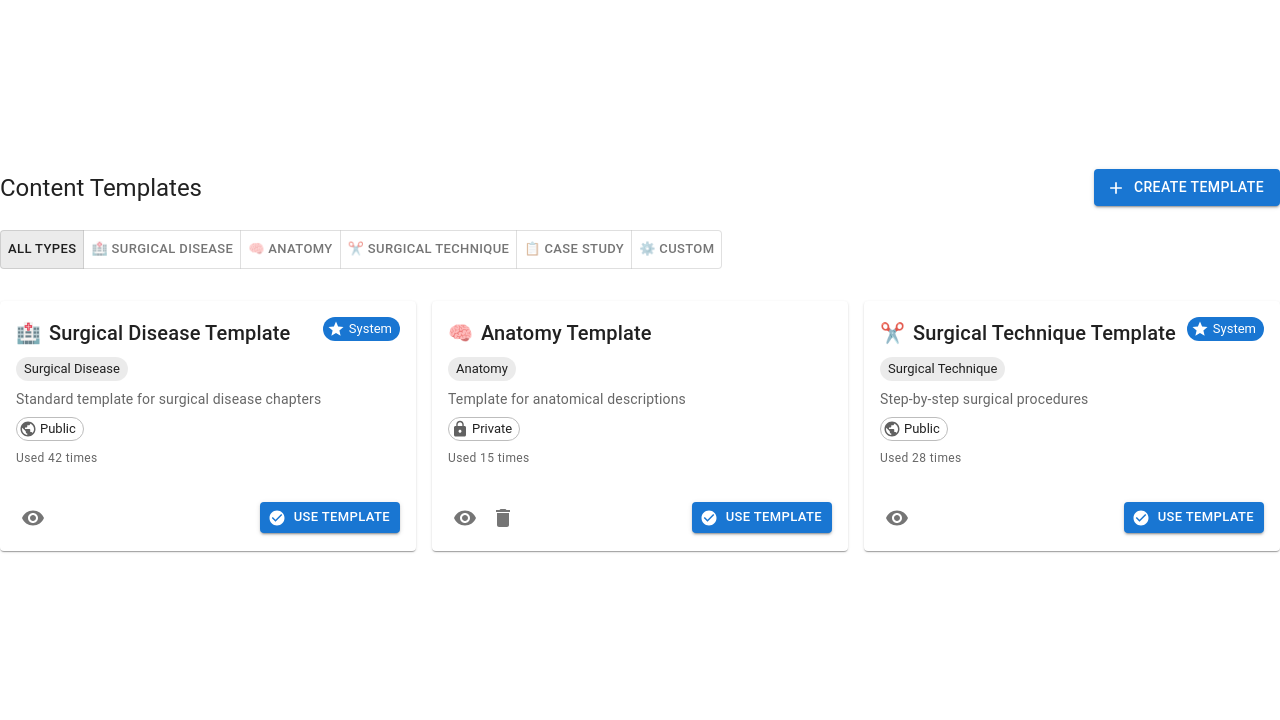
Test: TemplateSelector Component › Create Template Dialog › should allow adding sections
This screenshot has width=1280, height=720.
expect the heading "Content Templates" is shown: met, box [0, 172, 202, 204]
Click the button "Create Template" at (1187, 188), box [1094, 169, 1279, 206]
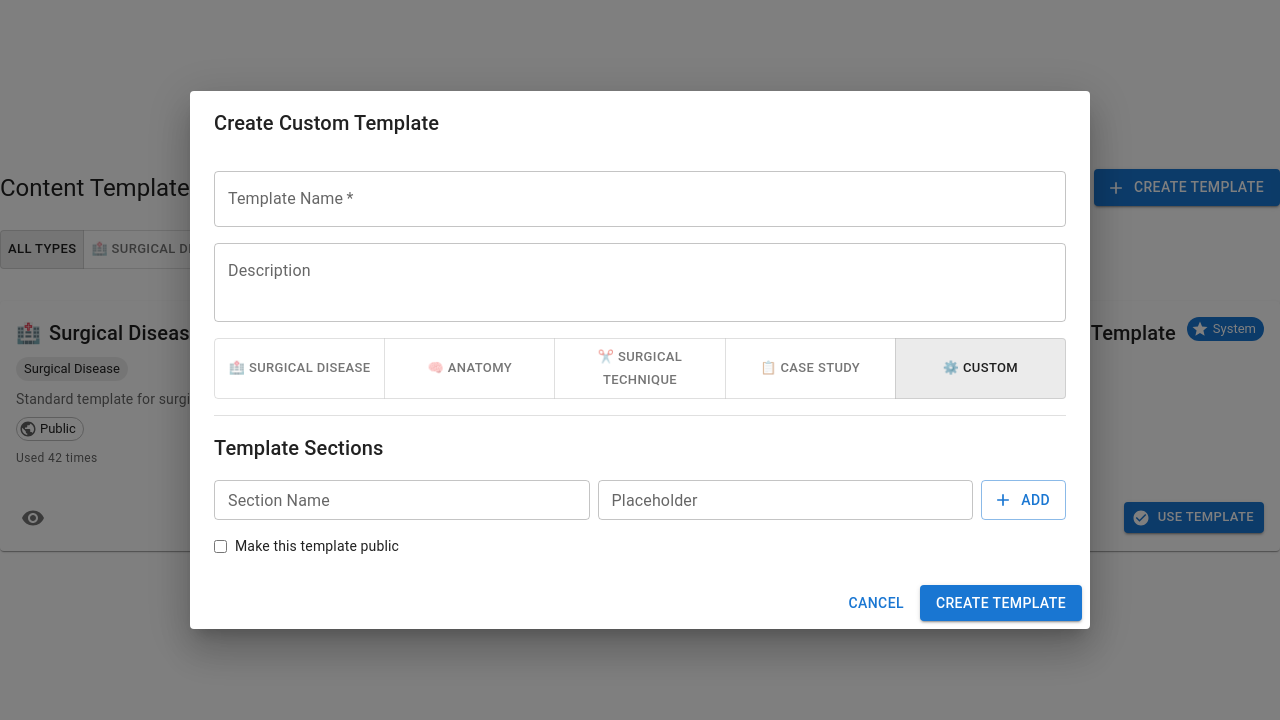
expect the field labelled "Section Name" is shown: met
Type section name
Type "Introduction" into the field labelled "Section Name" at (402, 500), box [214, 480, 590, 520]
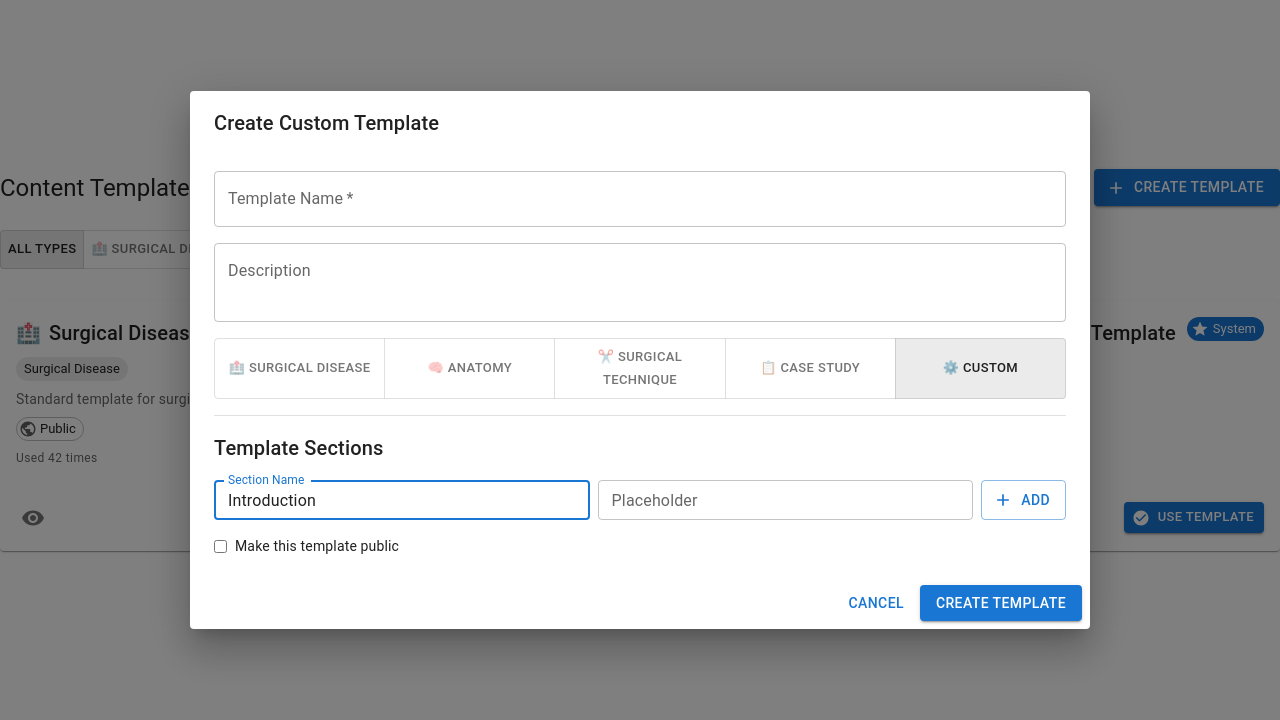
Click Add button
Click the button "Add" at (1024, 500), box [981, 480, 1066, 520]
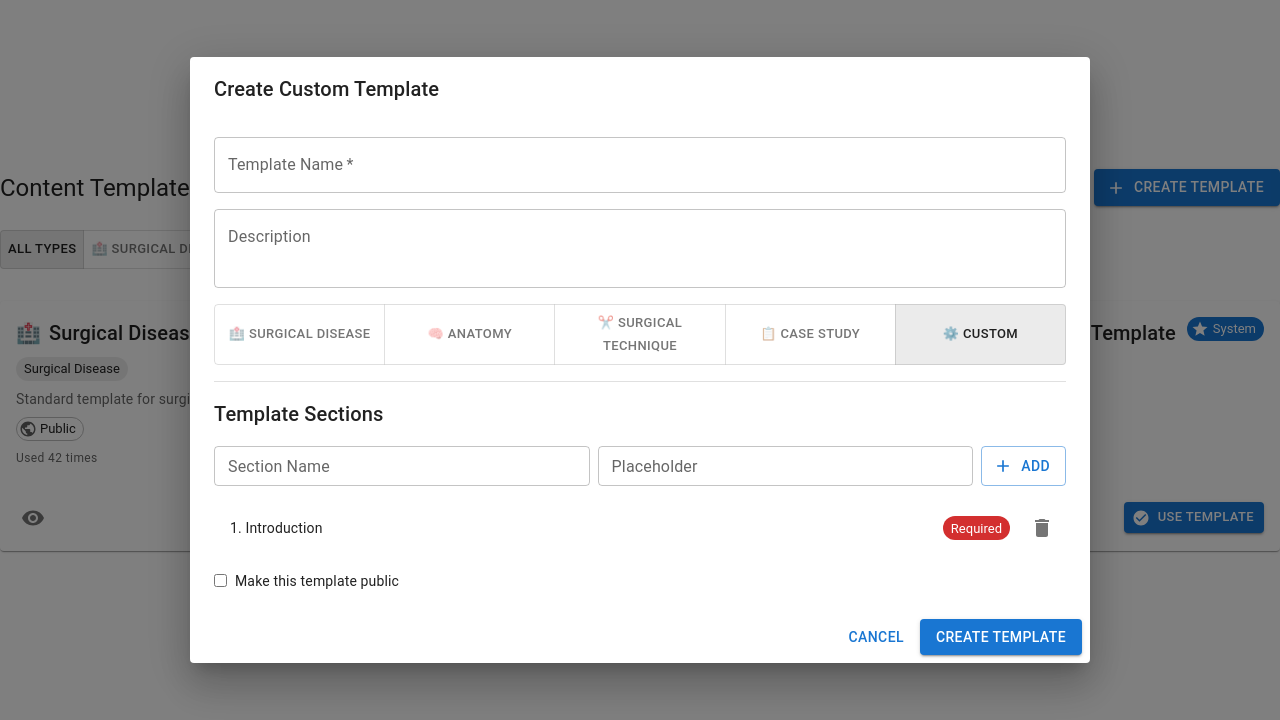
expect the text "1. Introduction" is shown: met, box [230, 520, 323, 536]
